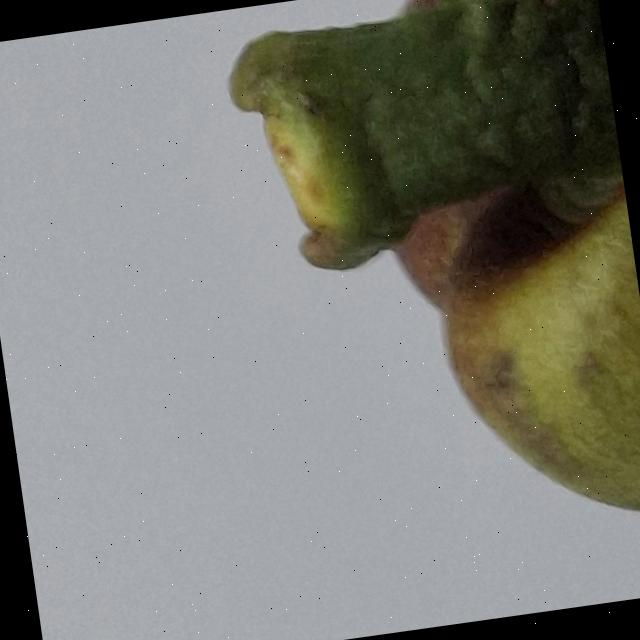mangosteen: (181, 0, 640, 640)
